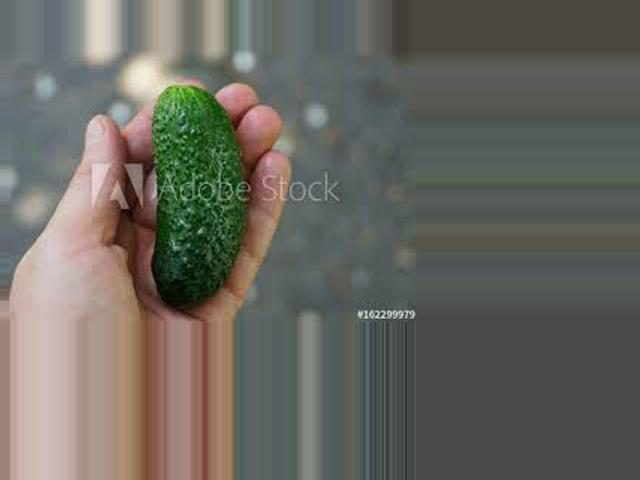cucumber: (152, 86, 248, 307)
